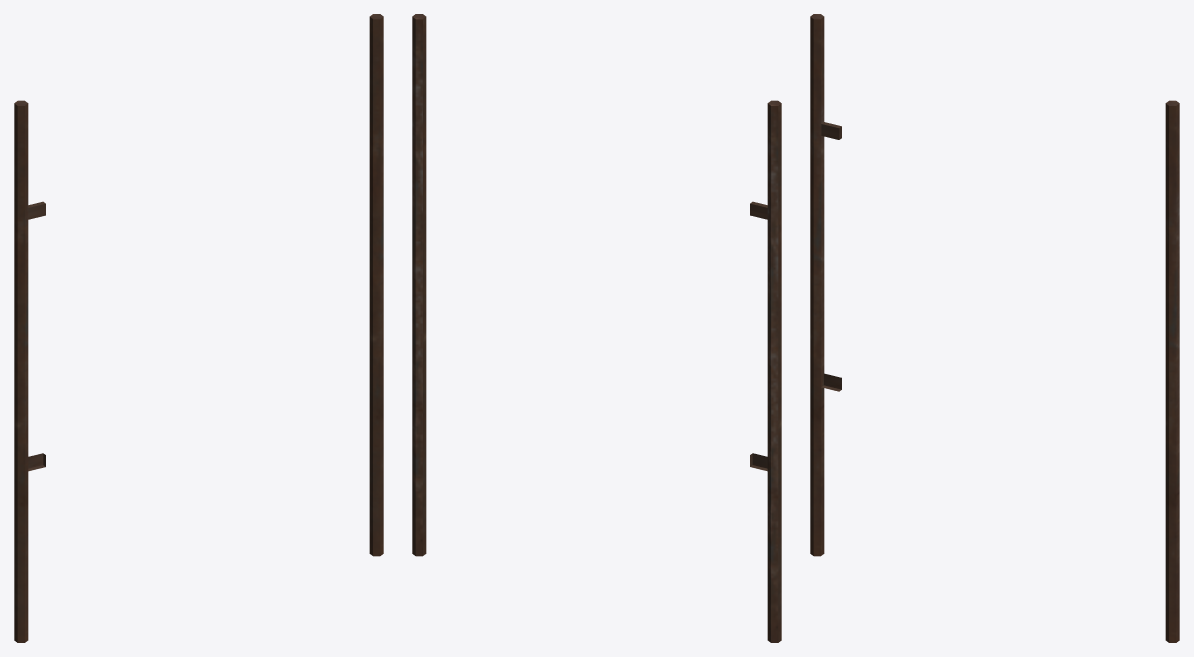
File: Urban_MetalFenceGateWithGate_Model.fbx
The picture shows the model from 3 angles, left to right: view 1: azimuth 30°, elevation 25°; view 2: azimuth 150°, elevation 25°; view 3: azimuth 330°, elevation 25°; orthographic projection.
Parts seen in each view (by area): view 1: Urban_MetalFenceGateWithGate_Mesh; view 2: Urban_MetalFenceGateWithGate_Mesh; view 3: Urban_MetalFenceGateWithGate_Mesh.
Boxes of the visible parts, bbox=[...] form: Urban_MetalFenceGateWithGate_Mesh: bbox=[14, 14, 383, 642]; Urban_MetalFenceGateWithGate_Mesh: bbox=[412, 14, 781, 642]; Urban_MetalFenceGateWithGate_Mesh: bbox=[810, 14, 1179, 642].
Bounding box in the file's own units: 1.19 × 1.67 × 0.04.
